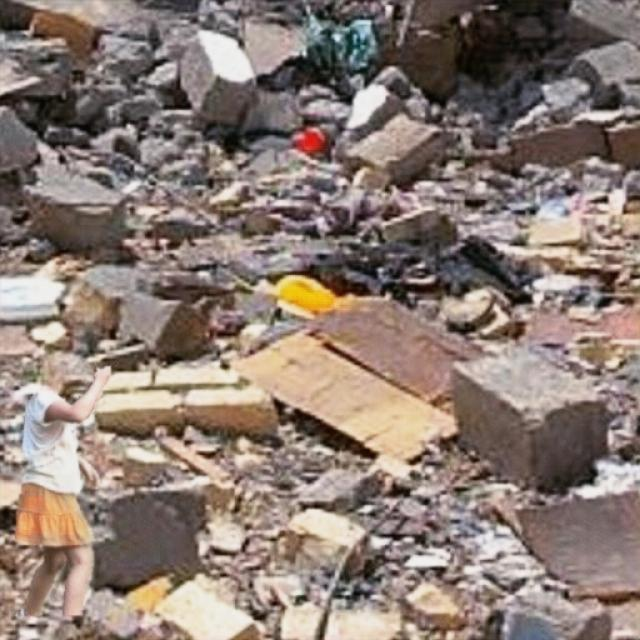Person in Rubble: (13, 366, 112, 615)
